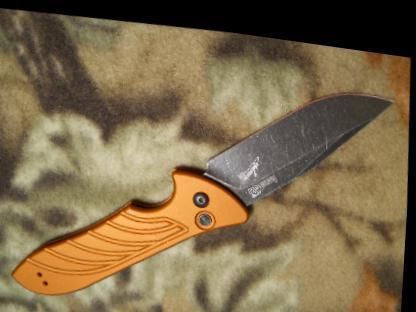knife: (195, 61, 404, 229)
